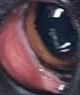eye_membrane: (0, 8, 59, 92)
